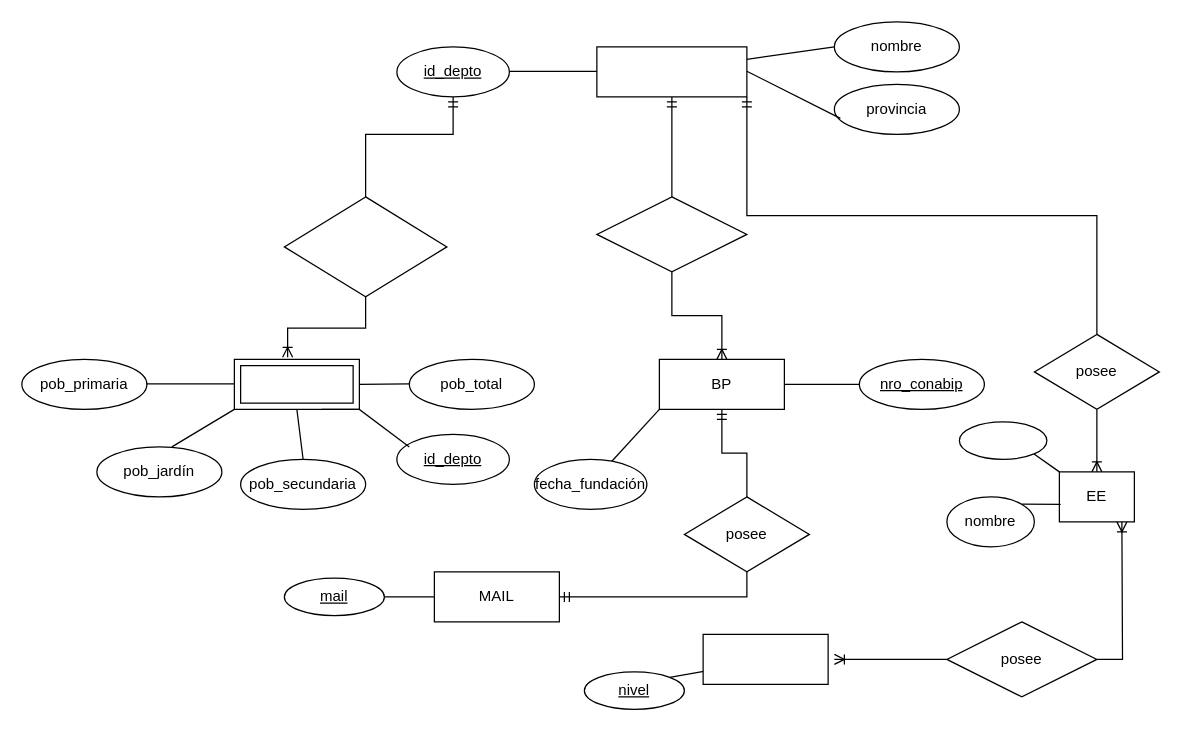
The diagram is 1181 pixels wide and 731 high, and some of its shapes have lost their labels. Here are the shapes that lost their labels. From the top down, the centre of each, then its label:
the point at 671,71: DEPARTAMENTO
the point at 365,246: reside_en
the point at 671,234: tiene
the point at 296,383: POBLACIÓN
the point at 1002,440: cueanexo
the point at 765,658: NIVELES
